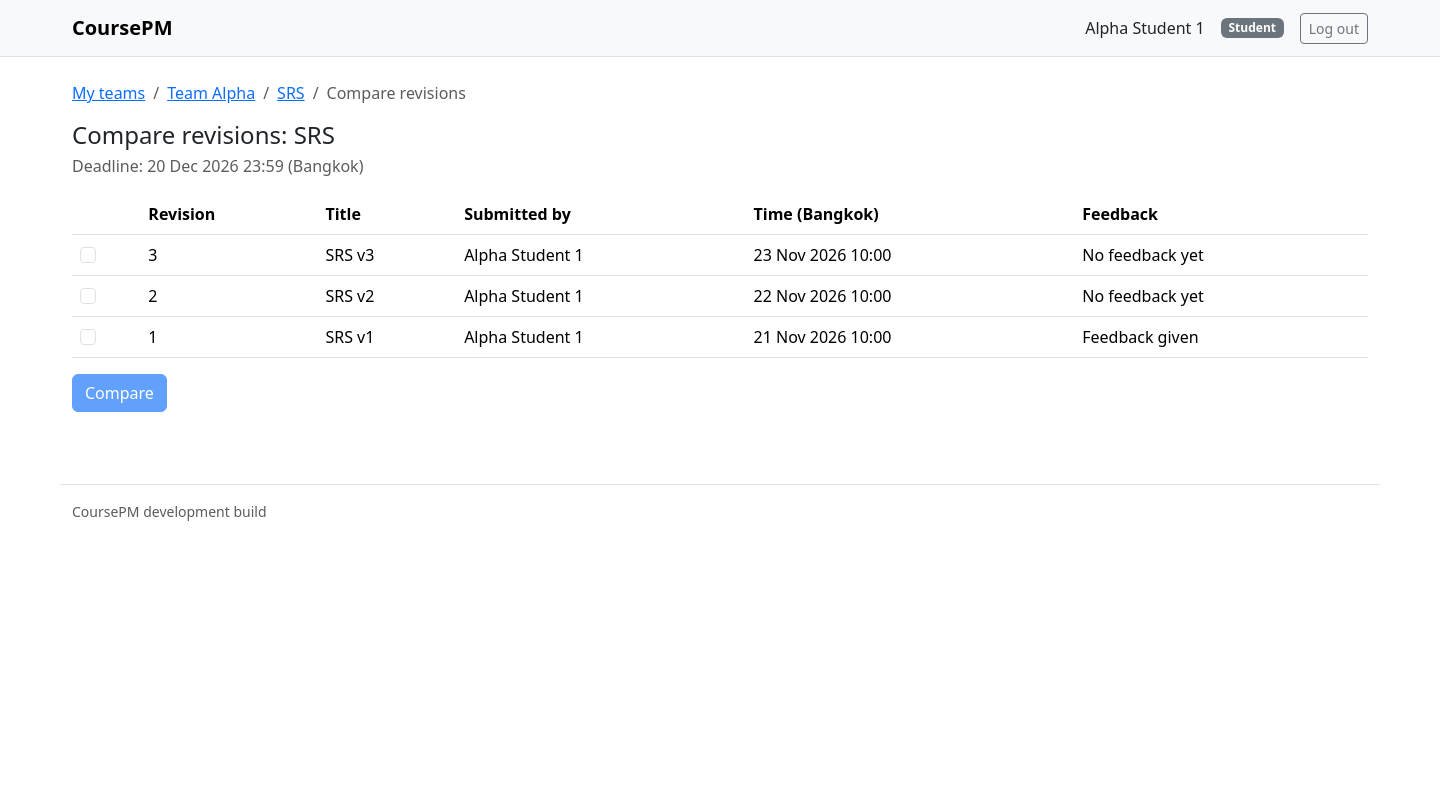
TEST-UI-07H (AC-07-7, AC-07-8): the revisions page › checking 3 then 1 and pressing Compare puts the older on the left, with badges and marked words, and keeps ?a=1&b=3 in the URL
This screenshot has width=1440, height=810.
Click the checkbox named "Select revision 3".
click(88, 255)  # box [80,247,96,263]
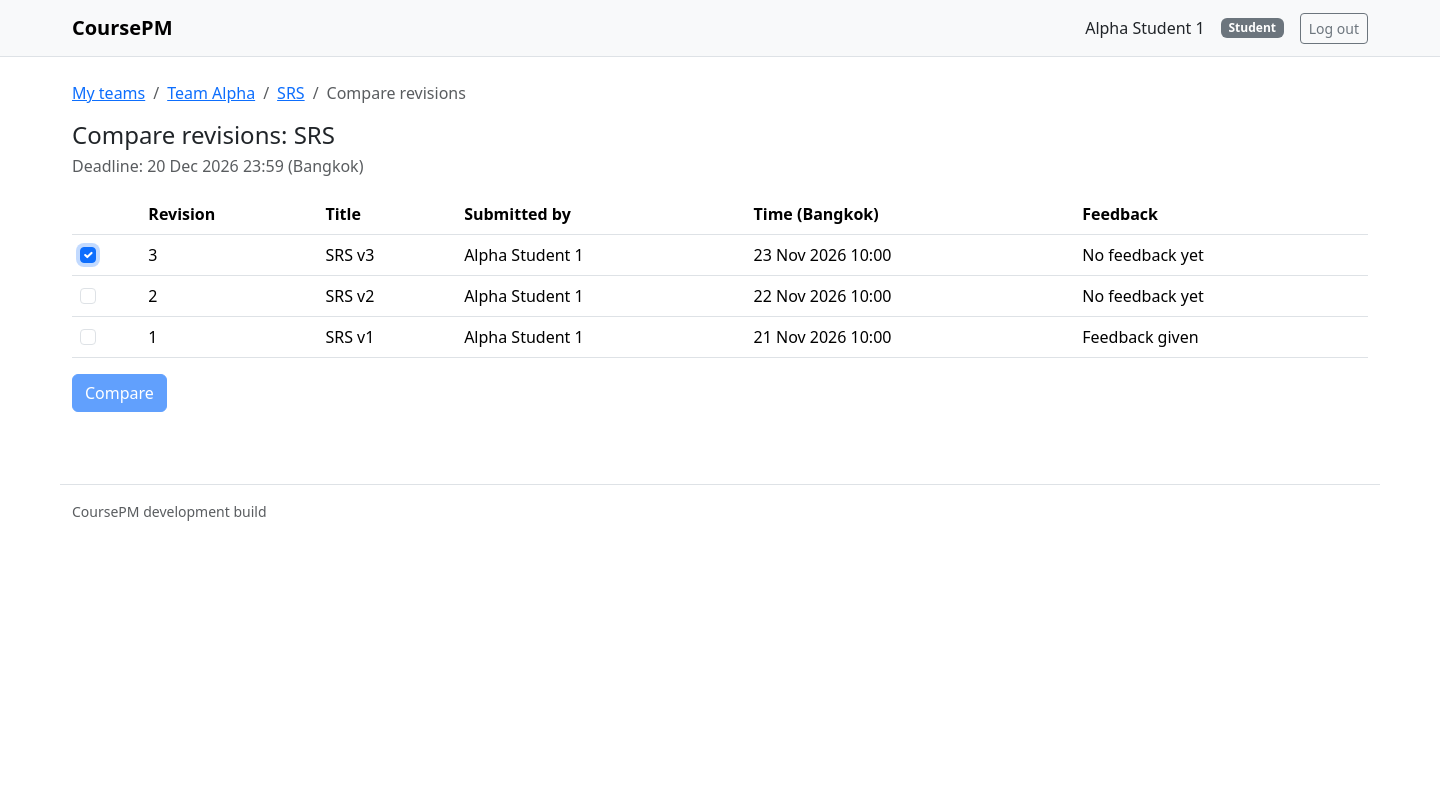
Click the checkbox named "Select revision 1".
click(88, 337)  # box [80,329,96,345]
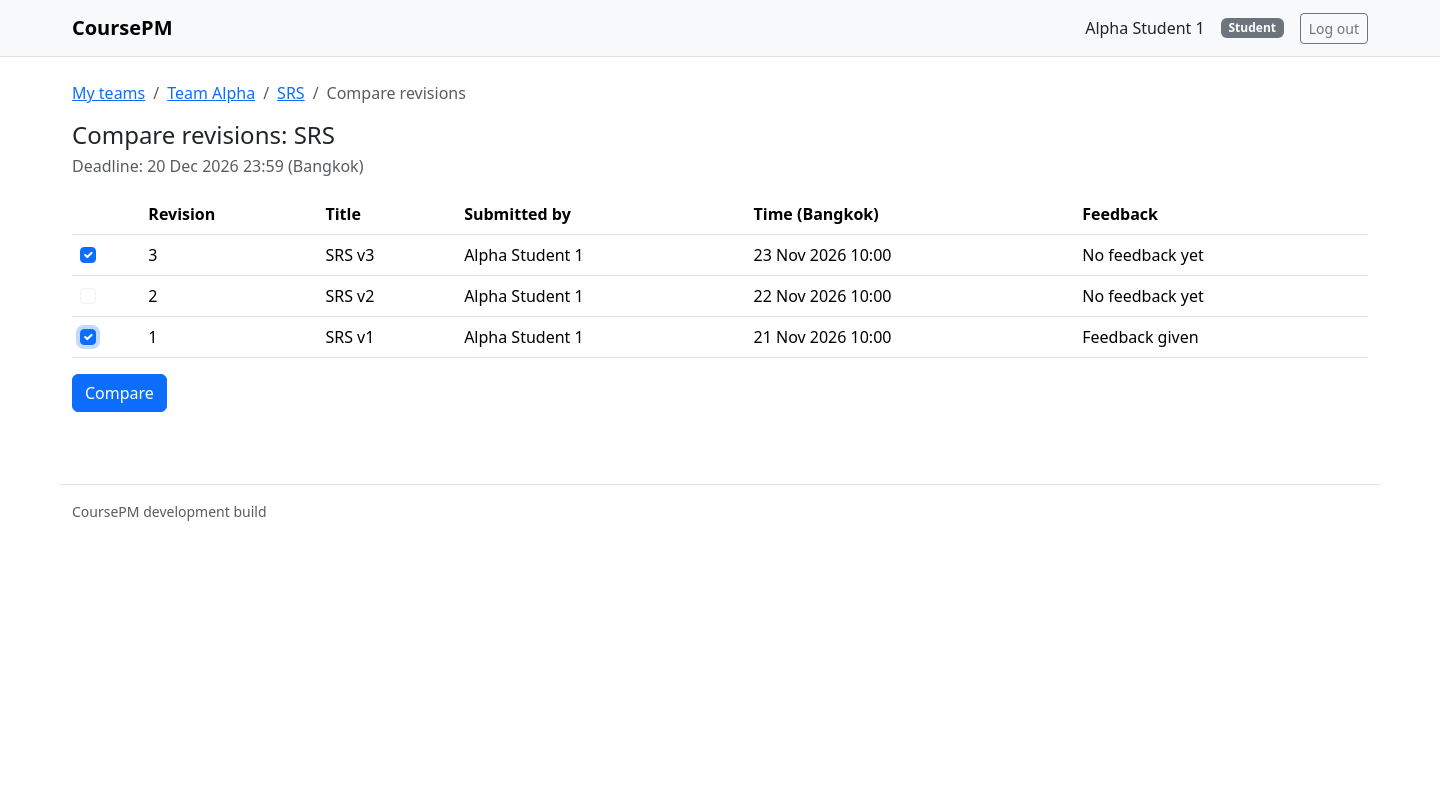
Click the button "Compare".
click(119, 393)  # box [72,374,167,412]
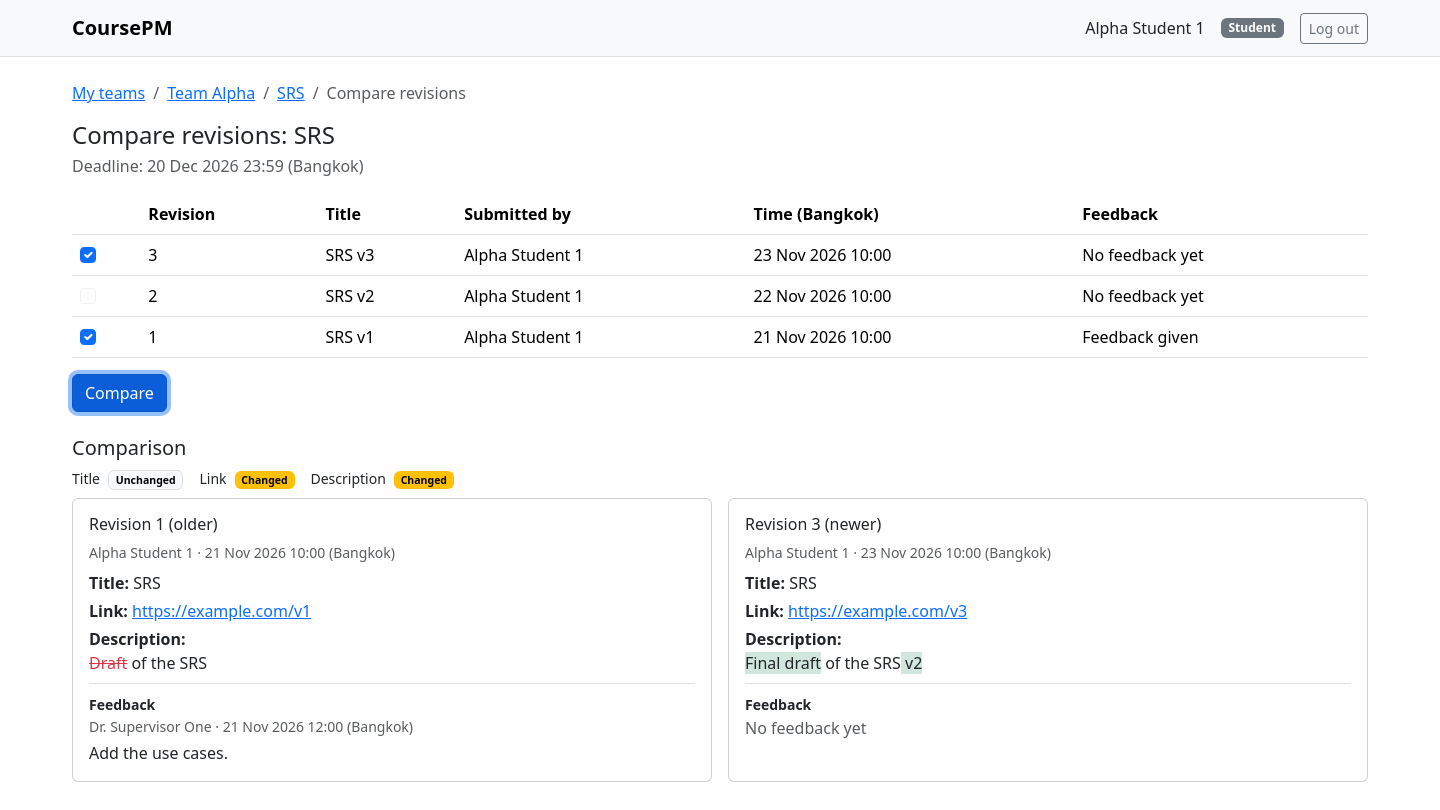
Expected: the text with test id "badge-title" reads "Unchanged", [116,473,176,487]
Expected: the text with test id "badge-link" reads "Changed", [241,473,288,487]
Expected: the text with test id "badge-description" reads "Changed", [401,473,447,487]
